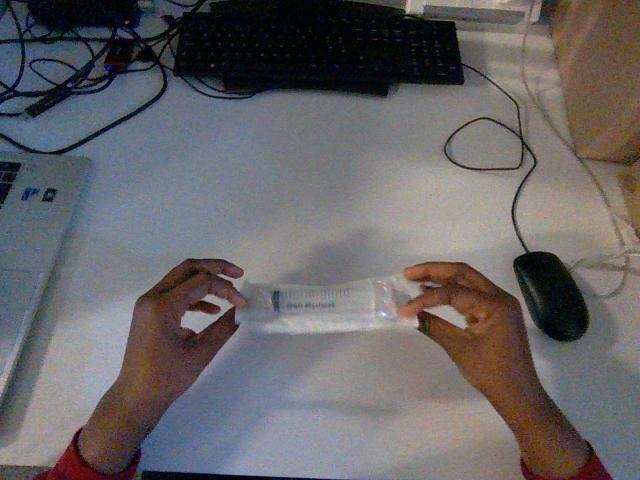syringe: (236, 275, 419, 333)
